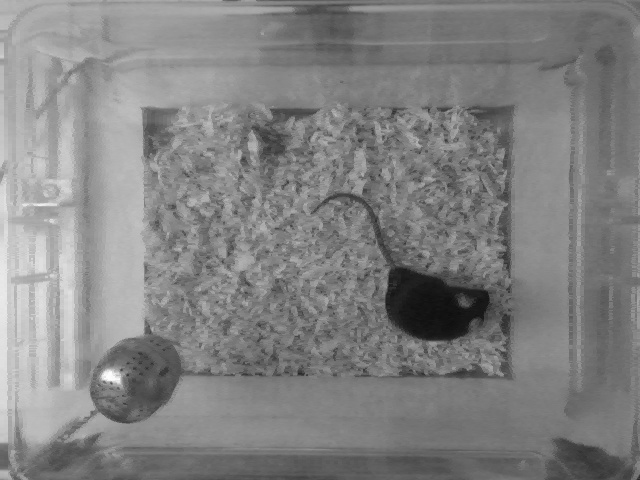mice: (310, 188, 489, 340)
